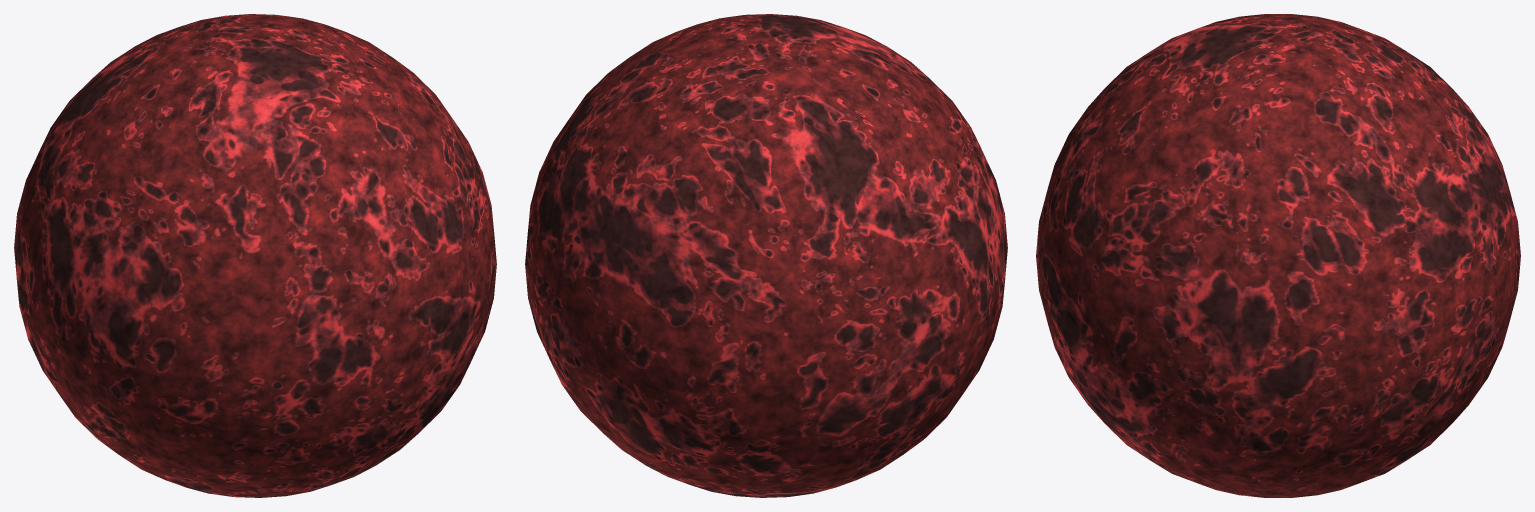
The model's file is disgustV2.glb.
The picture shows the model from 3 angles, left to right: view 1: azimuth 30°, elevation 25°; view 2: azimuth 150°, elevation 25°; view 3: azimuth 270°, elevation 25°; orthographic projection.
Parts seen in each view (by area): view 1: disgust.002; view 2: disgust.002; view 3: disgust.002.
Part boxes in pixels (box(x1,y1,x2,y2)): disgust.002: box(14, 14, 496, 497); disgust.002: box(525, 14, 1007, 497); disgust.002: box(1036, 14, 1520, 497).
Size of the model in its own units: 1.99 by 2 by 2.
Materials: 1 (1 with a texture image).
